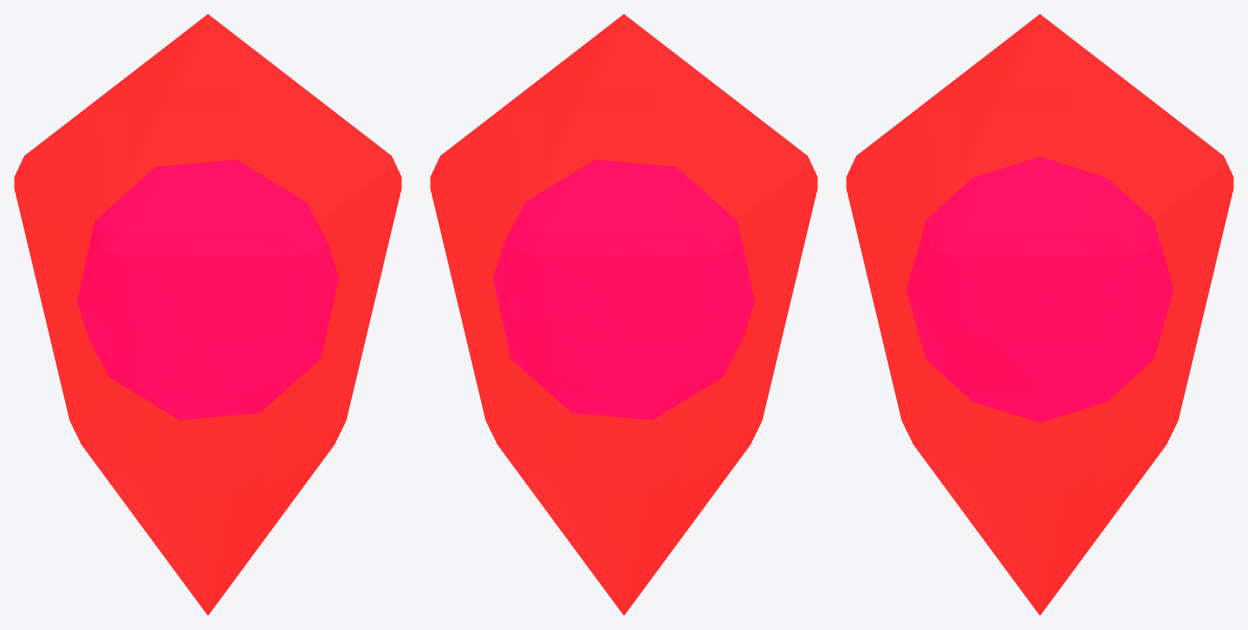
File: poin.on3.fbx
3 renders of one model, left to right at view 1: azimuth 30°, elevation 25°; view 2: azimuth 150°, elevation 25°; view 3: azimuth 270°, elevation 25°, orthographic.
Visible parts, largest first — view 1: Cube.001; view 2: Cube.001; view 3: Cube.001.
Boxes of the visible parts, x1=… form: Cube.001: x1=14, y1=14, x2=401, y2=615; Cube.001: x1=430, y1=14, x2=817, y2=615; Cube.001: x1=846, y1=14, x2=1233, y2=615.
Size of the model in its own units: 2.44 by 4.66 by 2.72.
